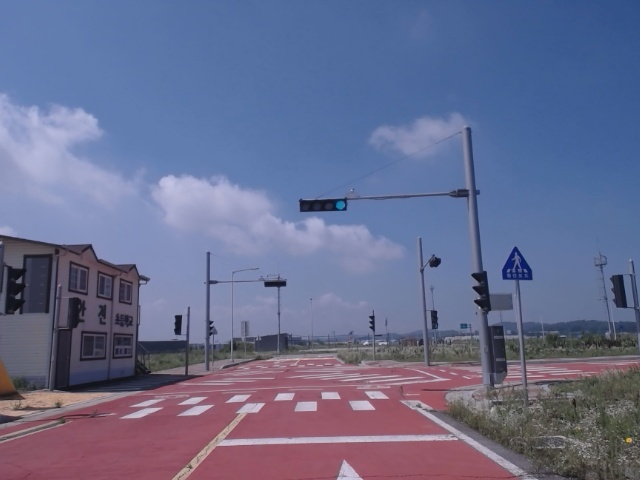straight_green_4: (299, 198, 349, 212)
